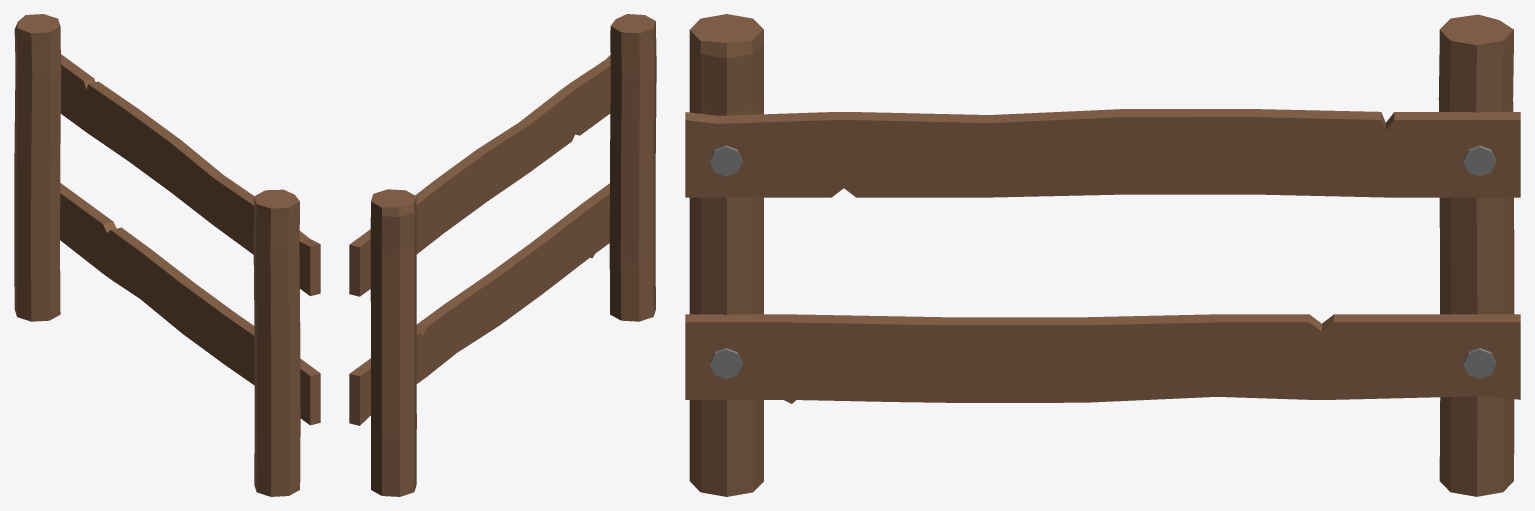
The model's file is AsiaCit.fbx.
The picture shows the model from 3 angles, left to right: view 1: azimuth 30°, elevation 25°; view 2: azimuth 150°, elevation 25°; view 3: azimuth 270°, elevation 25°; orthographic projection. The views are drawn at different scales.
Visible parts, largest first — view 1: Cube; view 2: Cube; view 3: Cube.
Part boxes in pixels (box(x1,y1,x2,y2)): Cube: box(14, 14, 320, 496); Cube: box(349, 14, 656, 496); Cube: box(685, 14, 1520, 496).
Size of the model in its own units: 36.81 by 188 by 315.
